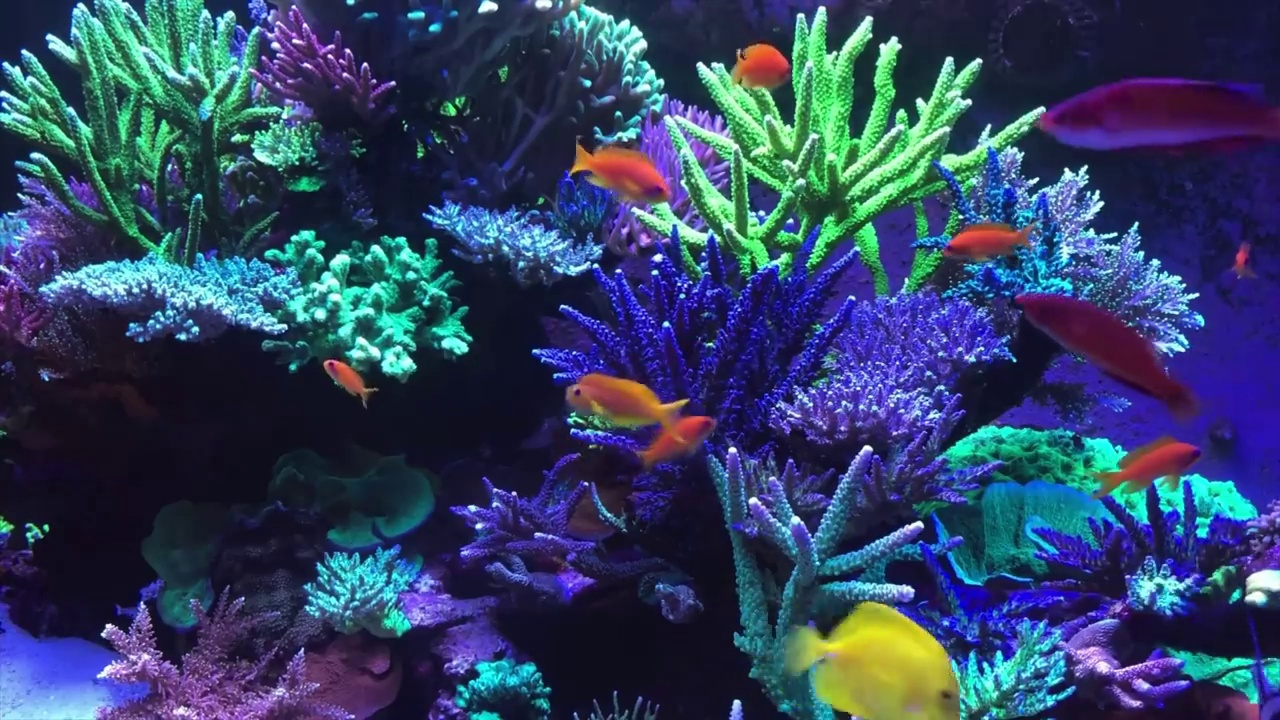fish: (1011, 292, 1202, 421), (783, 603, 963, 720), (1036, 75, 1280, 159), (566, 370, 684, 443), (568, 133, 674, 210), (1098, 434, 1205, 495), (639, 413, 721, 471), (943, 223, 1045, 266), (727, 44, 798, 92), (322, 358, 379, 408), (1230, 242, 1257, 286)
